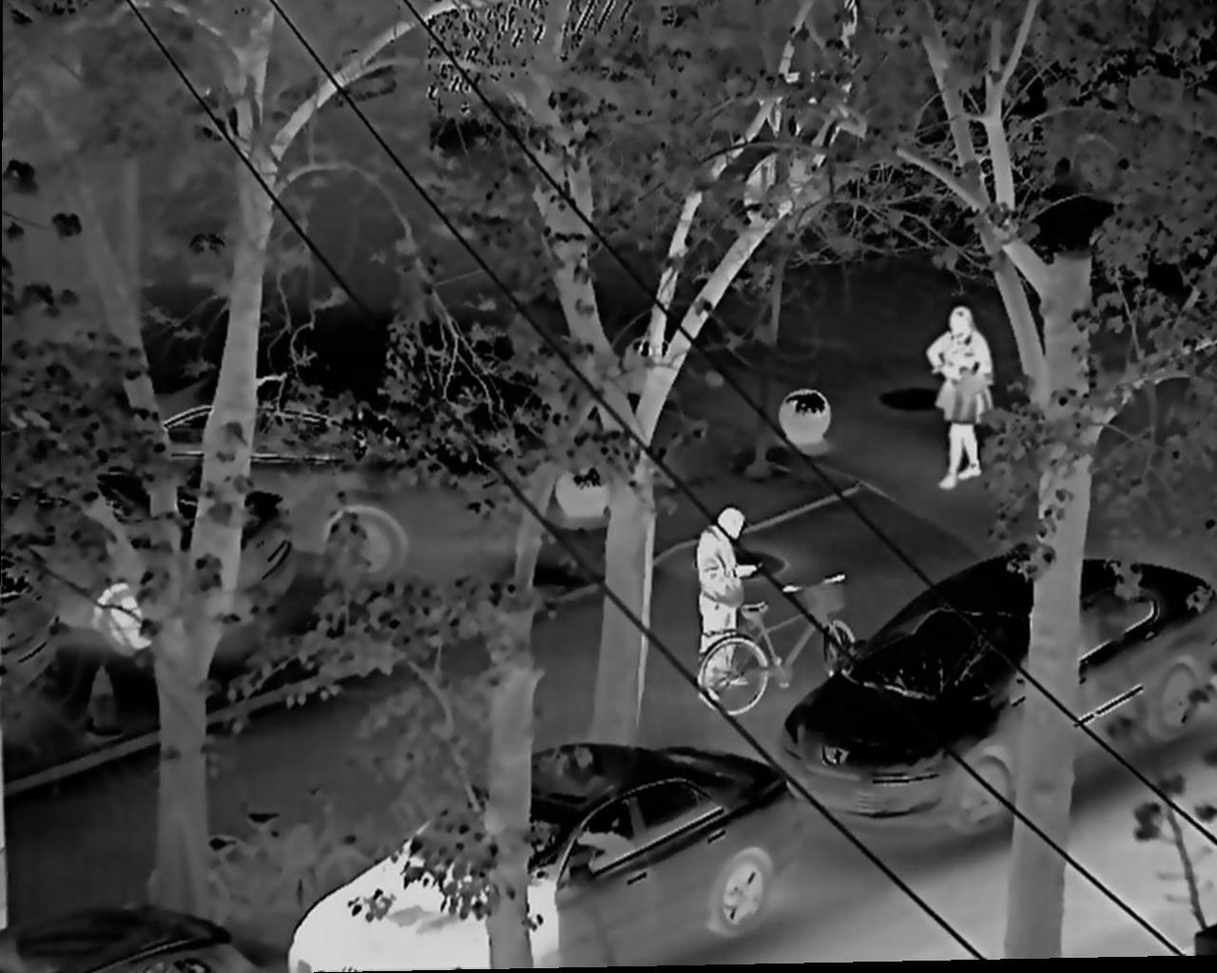person: (696, 506, 763, 713), (923, 306, 994, 489)
